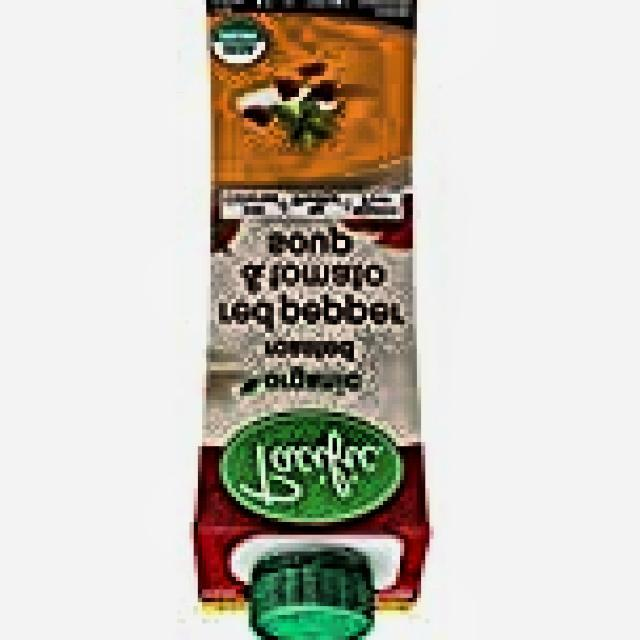cardboard: (190, 0, 430, 623)
